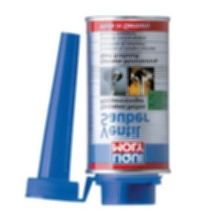cleaning_solution: (80, 12, 175, 205)
